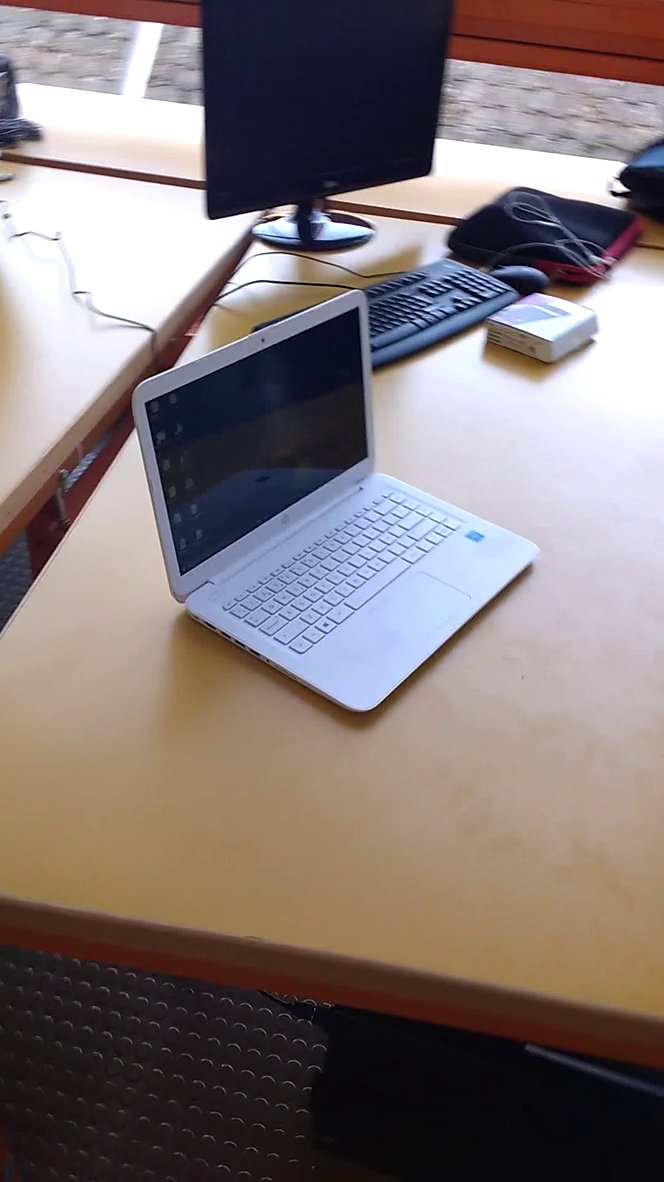laptop: (126, 286, 552, 729)
